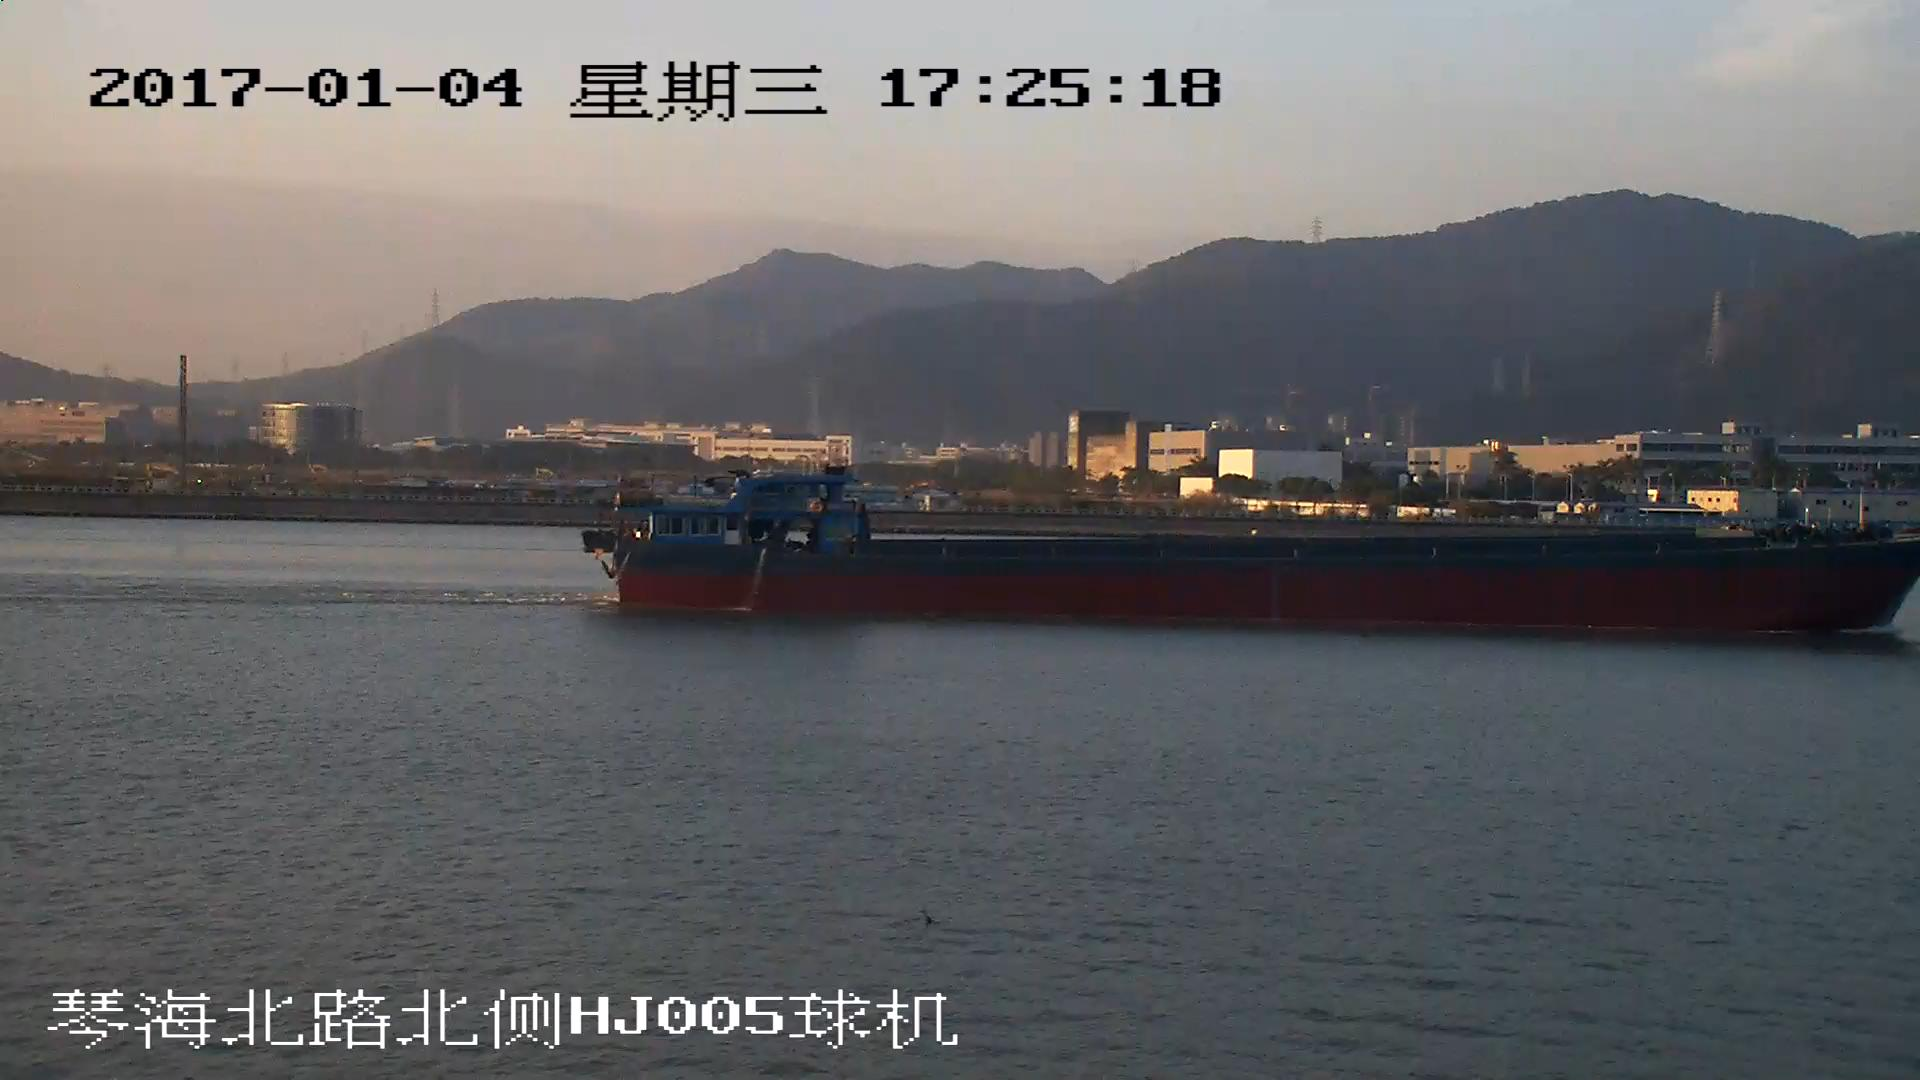general cargo ship: (587, 467, 1920, 635)
